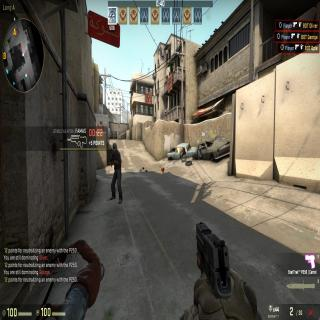T-Body: (111, 142, 122, 201)
T-Head: (112, 142, 117, 153)
